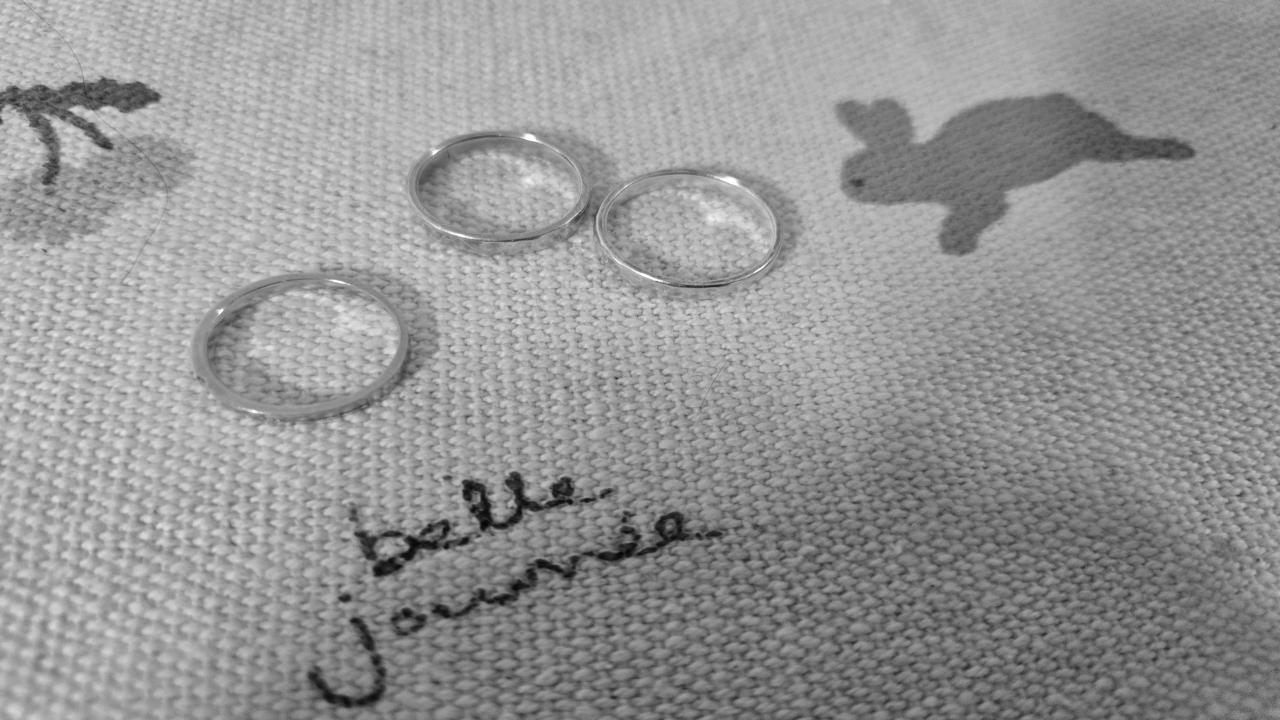ring: (188, 272, 414, 420), (598, 169, 784, 297), (404, 130, 592, 255)
